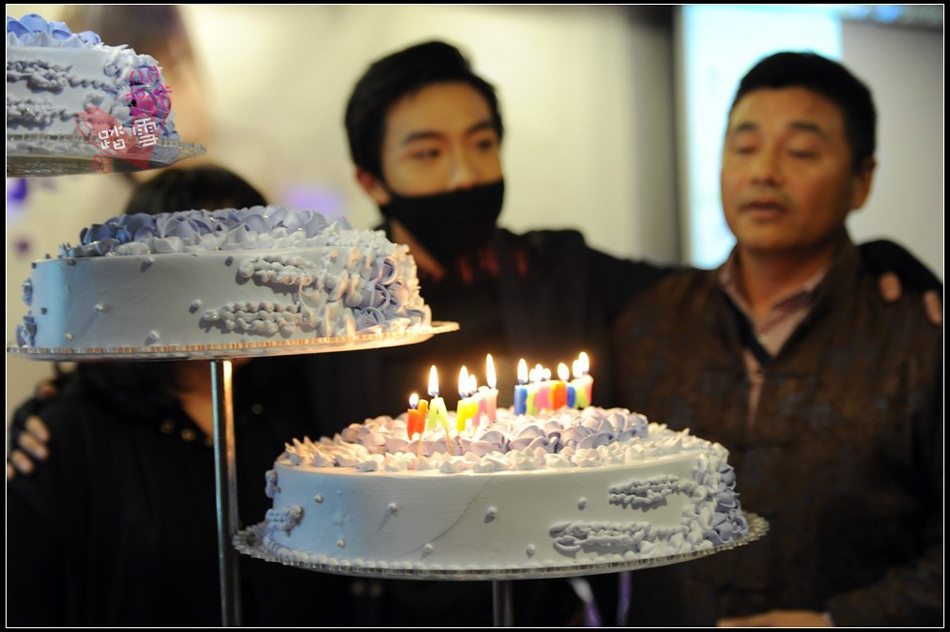face: (721, 90, 847, 246)
face_mask: (370, 80, 517, 239)
